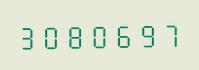eight: (63, 20, 85, 50)
nine: (132, 19, 154, 49)
seven: (155, 19, 177, 48)
six: (109, 19, 131, 49)
three: (17, 21, 39, 51)
zero: (40, 21, 62, 50), (86, 20, 108, 49)
